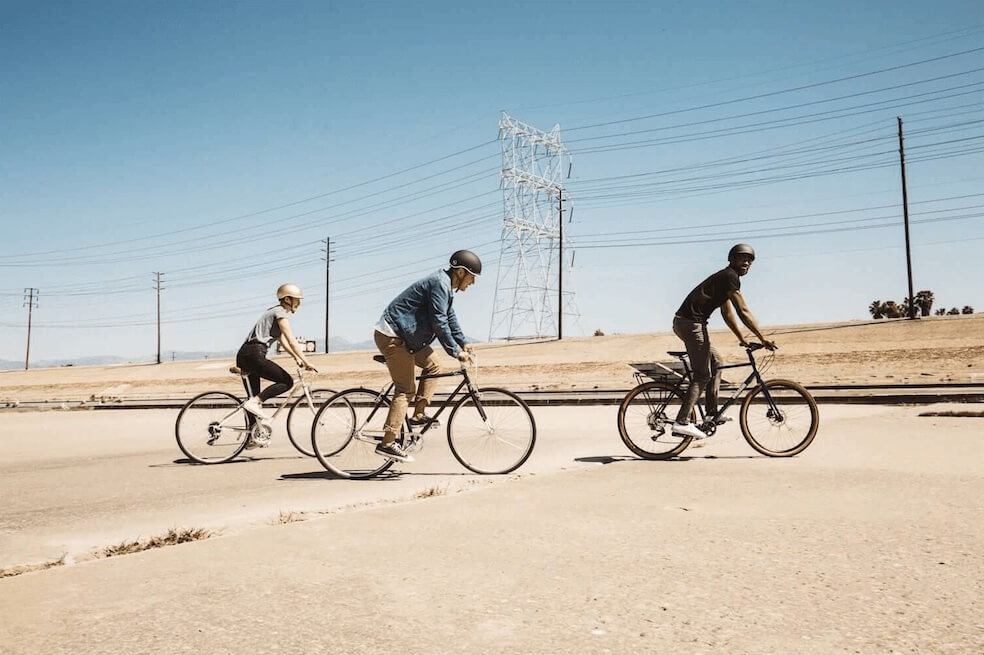helmet: (449, 250, 482, 292), (728, 243, 756, 275), (277, 282, 304, 315)
